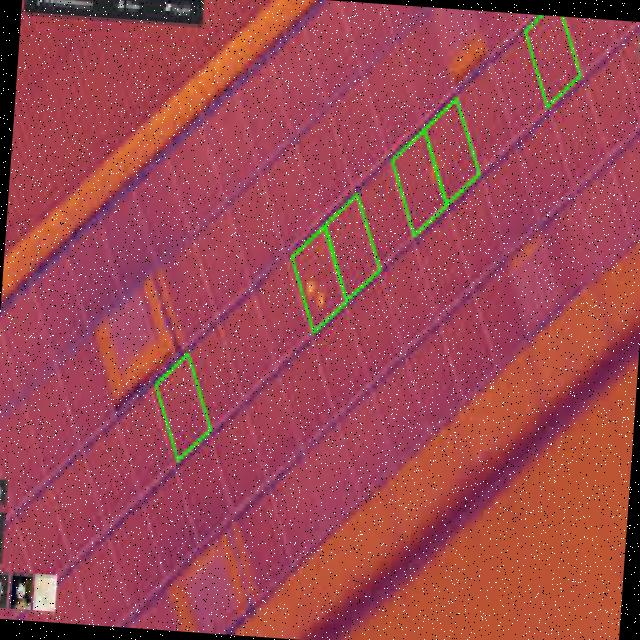Hotspot: (303, 274, 318, 300), (314, 290, 328, 310)
